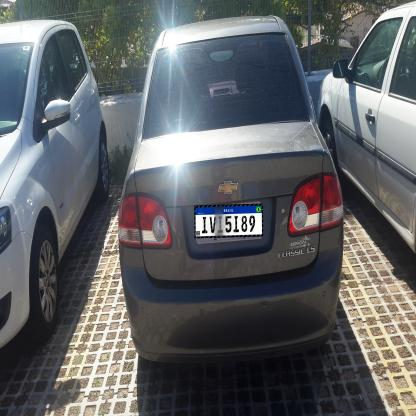PlacaM: (194, 204, 263, 238)
